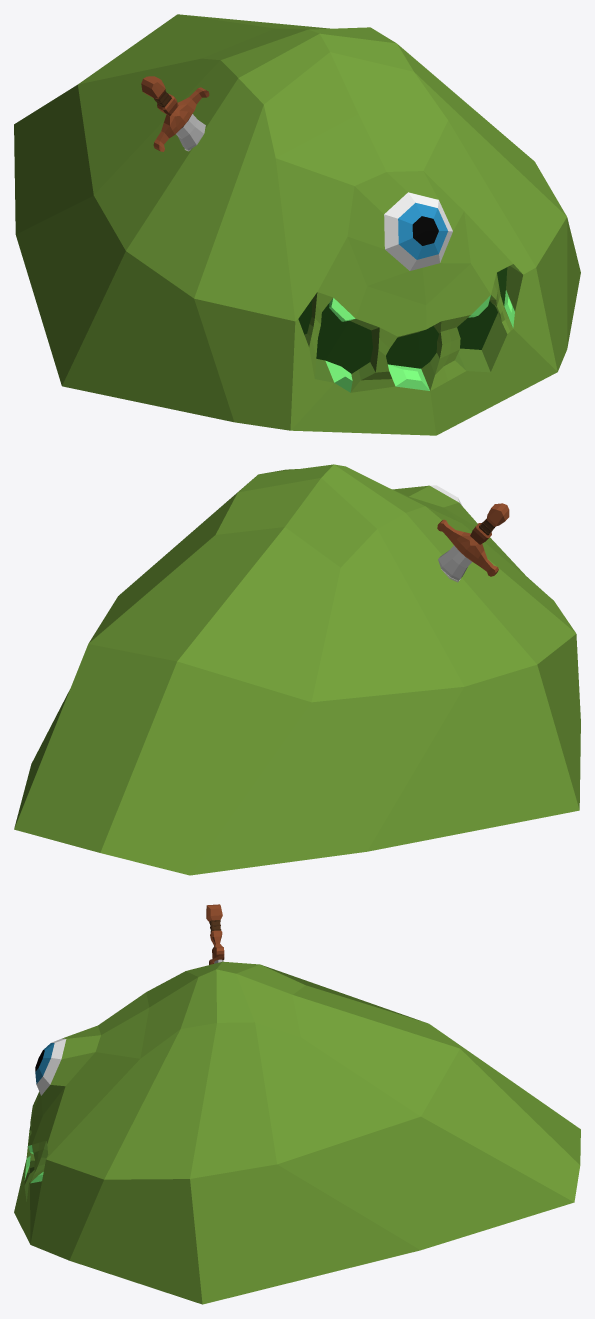
The model's file is Slime_001.fbx.
3 renders of one model, top to bottom at view 1: azimuth 30°, elevation 25°; view 2: azimuth 150°, elevation 25°; view 3: azimuth 270°, elevation 25°, orthographic. The views are drawn at different scales.
Visible parts, largest first — view 1: Dolch_001; view 2: Dolch_001; view 3: Dolch_001.
Boxes of the visible parts, x1,y1,x2,y2 form: Dolch_001: (14, 14, 580, 435); Dolch_001: (14, 464, 580, 875); Dolch_001: (14, 904, 580, 1304).
Size of the model in its own units: 912 by 542 by 1098.
